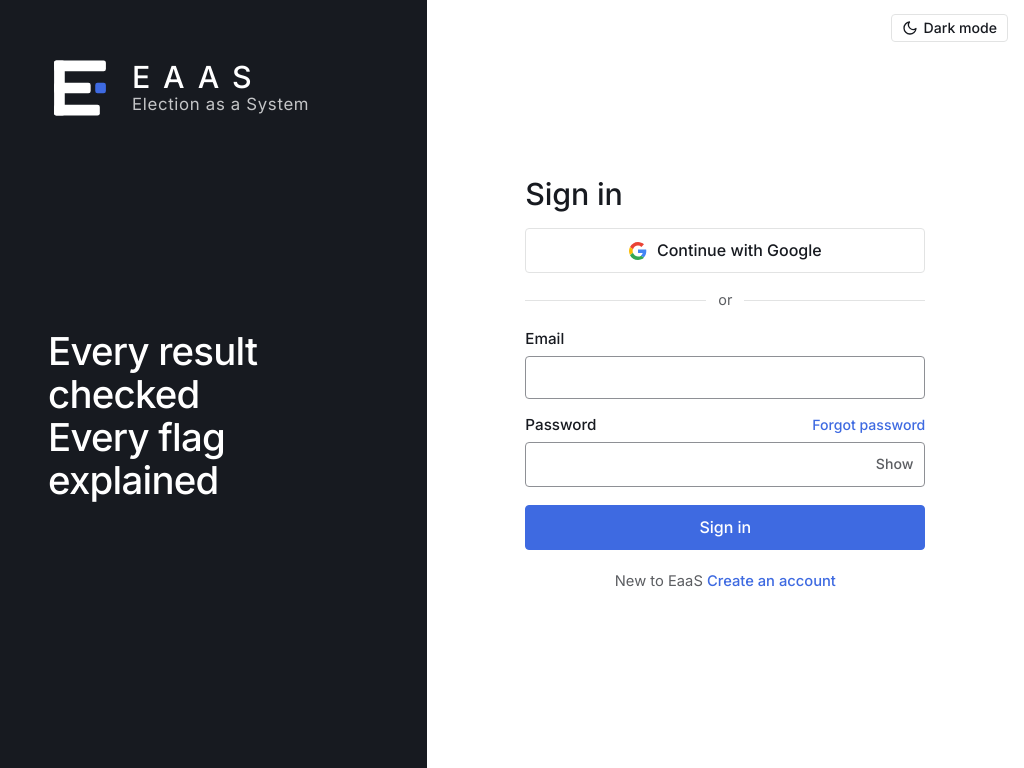
Test: configuration and sign-in › shows a friendly message for wrong credentials
In the field labelled "Email": (725, 378) [525, 356, 925, 399], type "a@example.test"
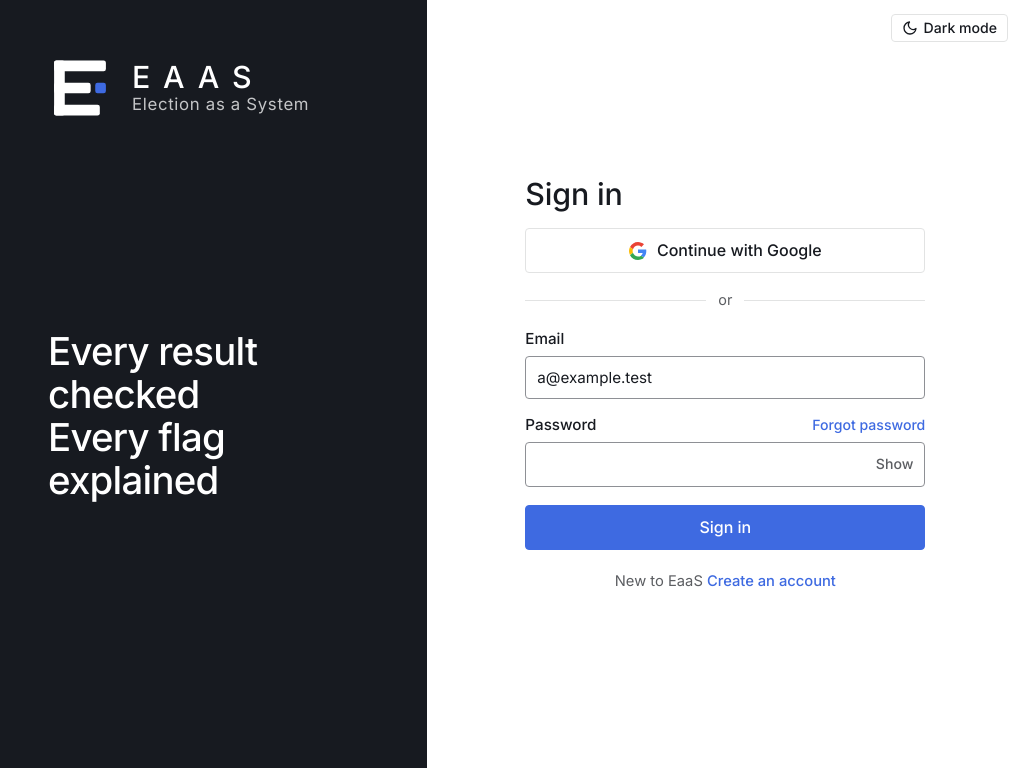
In the password field labelled "Password": (725, 464) [525, 442, 925, 487], type "wrong-pass"
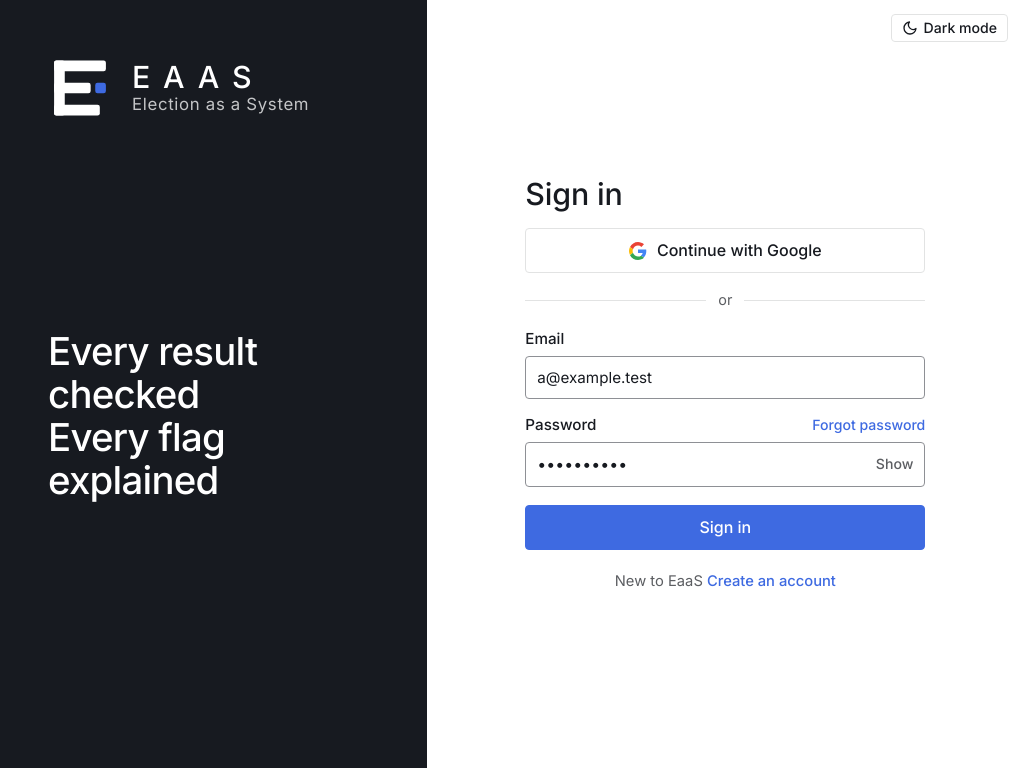
Click the button "Sign in": (725, 527) [525, 505, 925, 550]
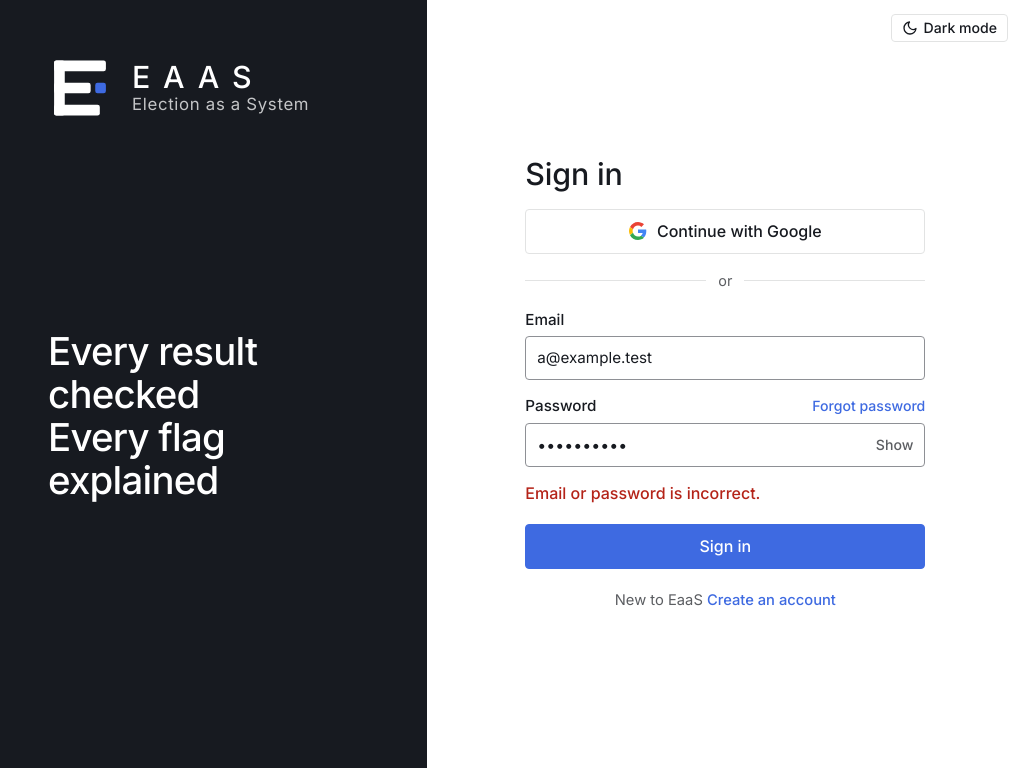
Check: the message reads "Email or password is incorrect.", box [525, 483, 760, 503]
